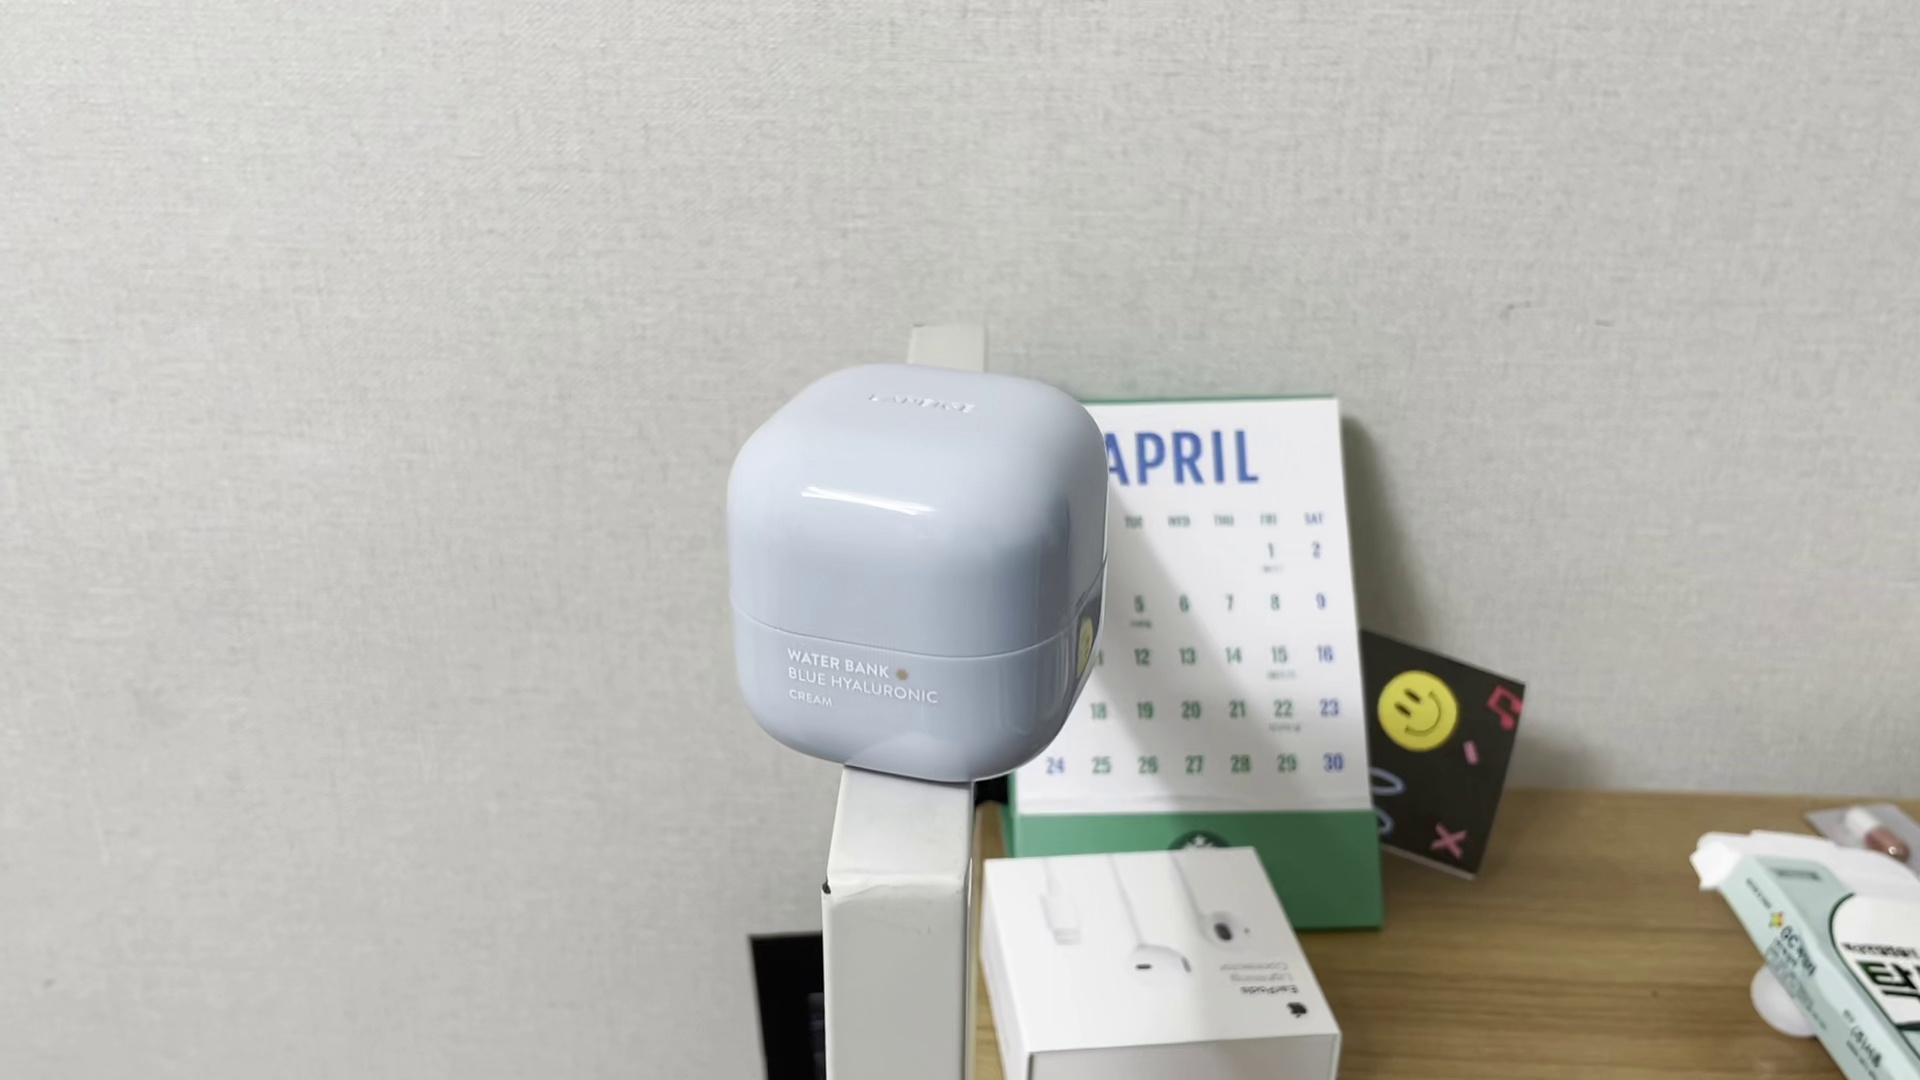cream: (724, 364, 1108, 774)
